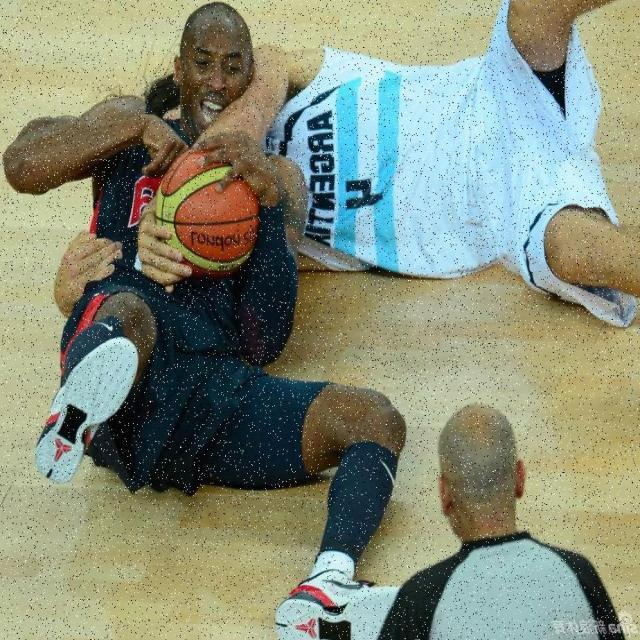fall: (158, 17, 632, 307)
